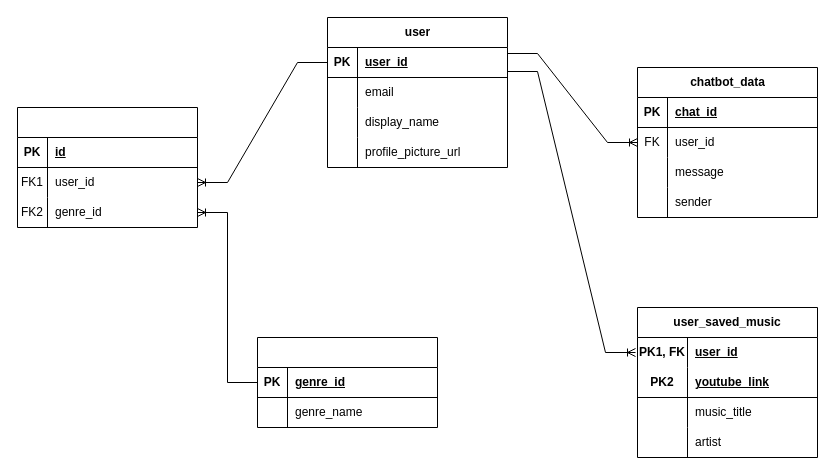
Image size: 835x475. Some labels were removed from this diagram. The shapes that lost their labels are listed below. From the top down, each one's box as (x1, y1, x2, y2) in pixels, then its label:
(16, 106, 198, 228): user_preferred_genres
(256, 336, 438, 428): genres
